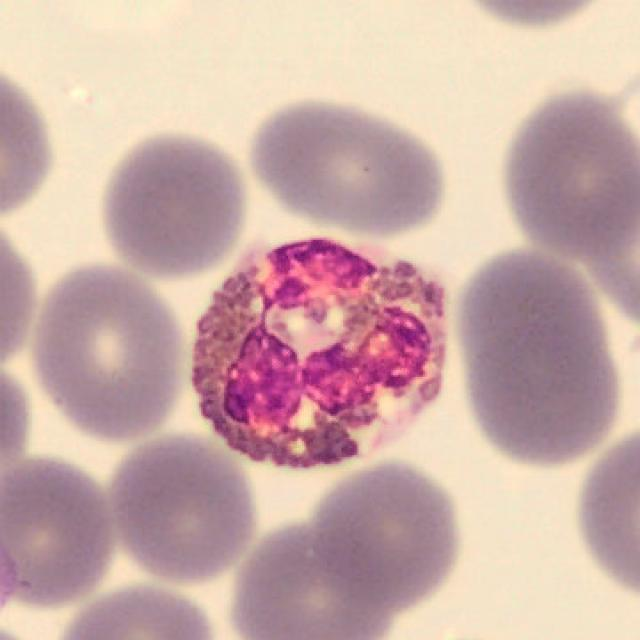Eosinofilo: (190, 238, 448, 471)
